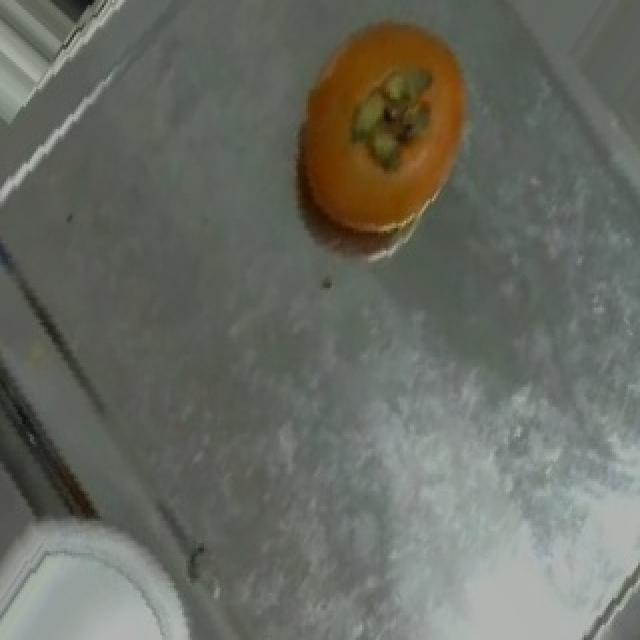Fruit: (272, 10, 494, 255)
